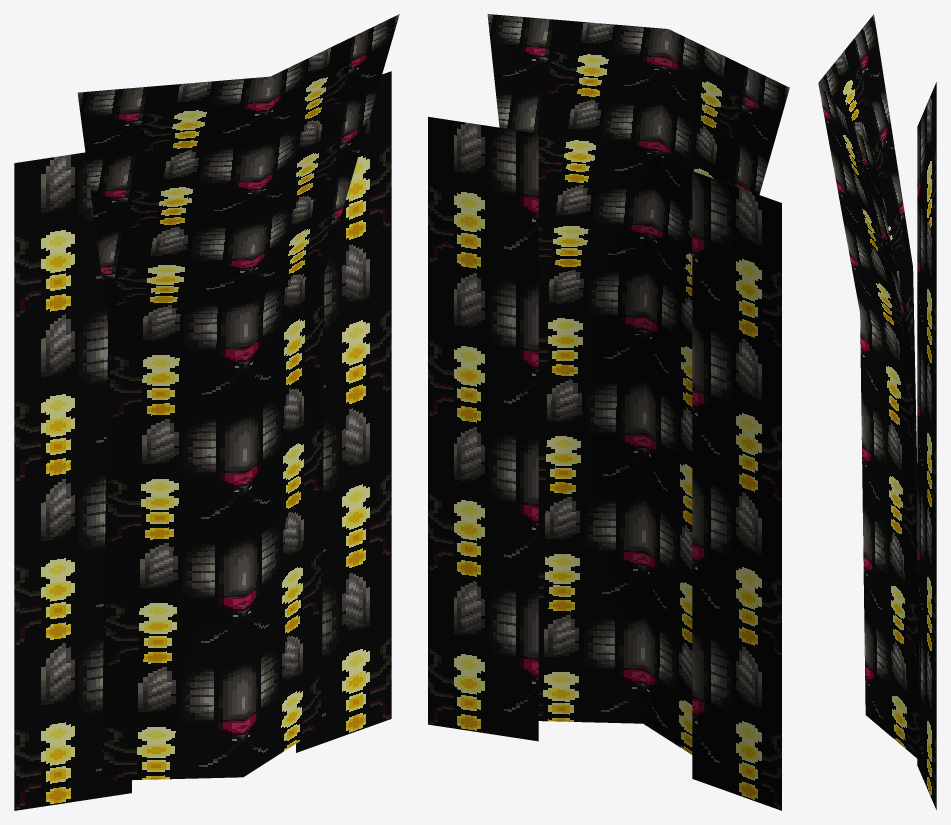
The model's file is 5037musi47_e.gltf.
3 renders of one model, left to right at view 1: azimuth 30°, elevation 25°; view 2: azimuth 150°, elevation 25°; view 3: azimuth 270°, elevation 25°, orthographic. The views are drawn at different scales.
Parts seen in each view (by area): view 1: 5037musi47_e; view 2: 5037musi47_e; view 3: 5037musi47_e.
Part boxes in pixels (x1=…): 5037musi47_e: x1=14, y1=14, x2=399, y2=810; 5037musi47_e: x1=428, y1=14, x2=789, y2=810; 5037musi47_e: x1=818, y1=14, x2=936, y2=809.
Size of the model in its own units: 0.1338 by 0.25 by 0.0415.
1 material, 1 textured.
